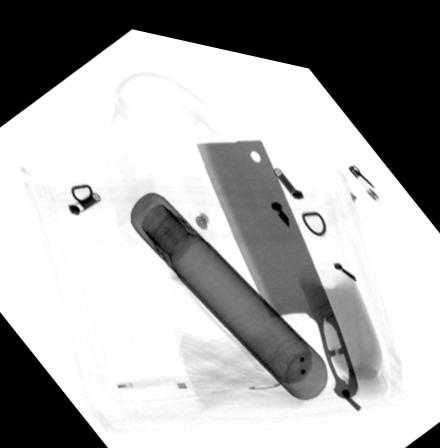Knife: (193, 126, 358, 384)
